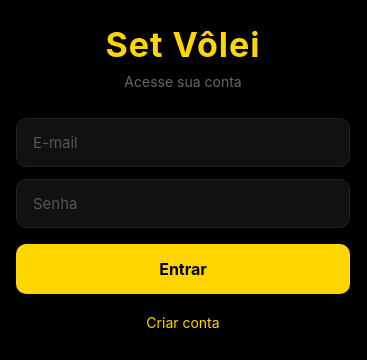
Test: LoginScreen (integration) › shows a validation error when fields are empty
What coordinates should you click on to do the following:
click the button with test id "login-submit-button"
I would click on:
 (183, 268)
Its box is [16, 244, 350, 294].
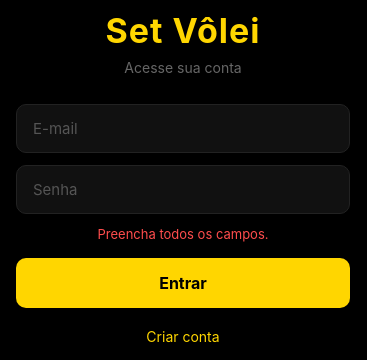
Result: the text with test id "login-error" reads "Preencha todos os campos." at [98, 226, 268, 242]
